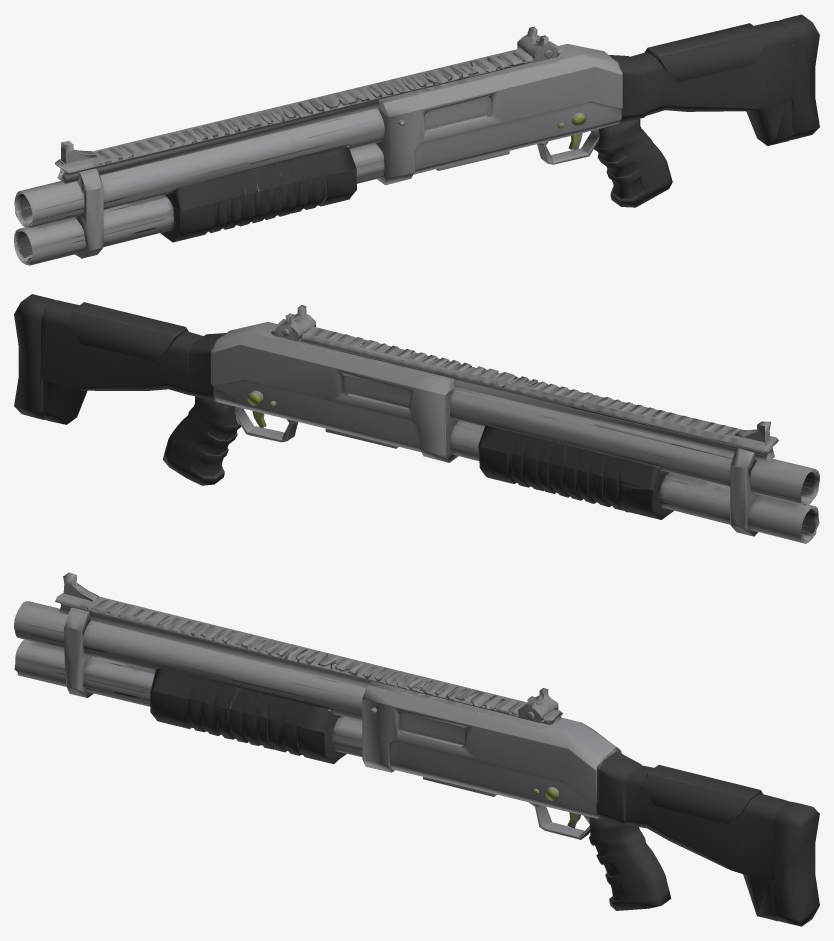
The model's file is sg_hydra.glb.
3 renders of one model, top to bottom at view 1: azimuth 30°, elevation 25°; view 2: azimuth 150°, elevation 25°; view 3: azimuth 330°, elevation 25°, orthographic.
Bounding box in the file's own units: 0.958 × 0.2246 × 0.0654.
Materials: 1 (1 with a texture image).
